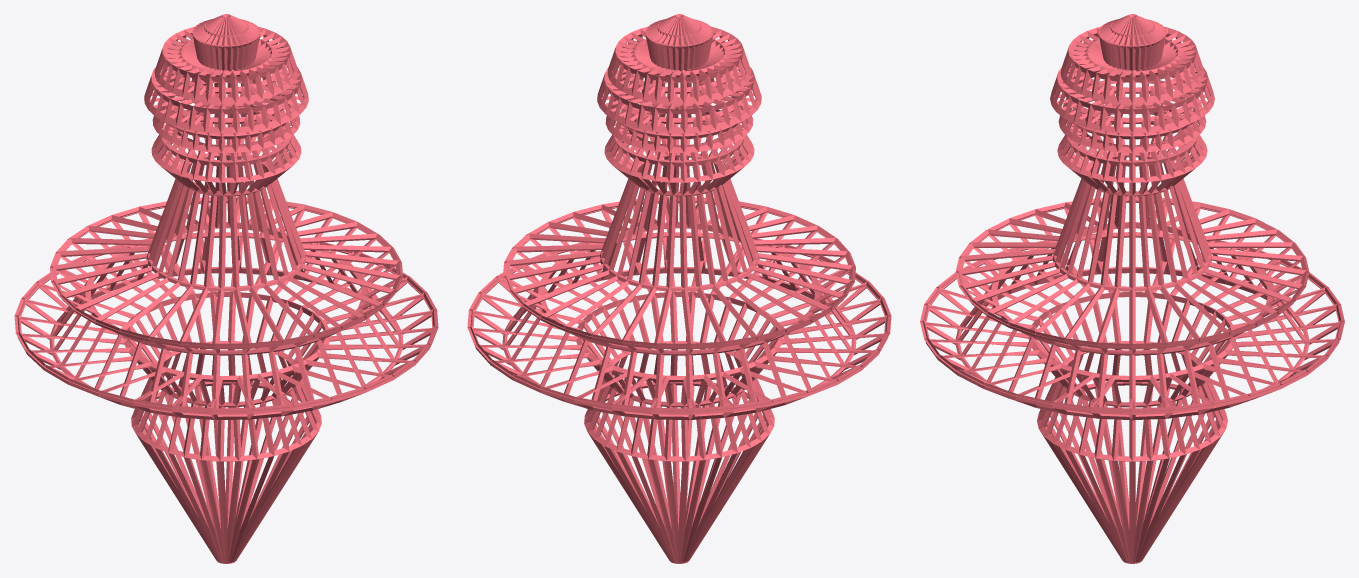
Rendered from EsytructuraMovida.fbx.
The picture shows the model from 3 angles, left to right: view 1: azimuth 30°, elevation 25°; view 2: azimuth 150°, elevation 25°; view 3: azimuth 270°, elevation 25°; orthographic projection.
Parts seen in each view (by area): view 1: EstructuraMovida; view 2: EstructuraMovida; view 3: EstructuraMovida.
Boxes of the visible parts, x1,y1,x2,y2 form: EstructuraMovida: [14, 14, 438, 563]; EstructuraMovida: [467, 14, 891, 563]; EstructuraMovida: [920, 14, 1344, 563].
Size of the model in its own units: 591 by 835 by 591.
